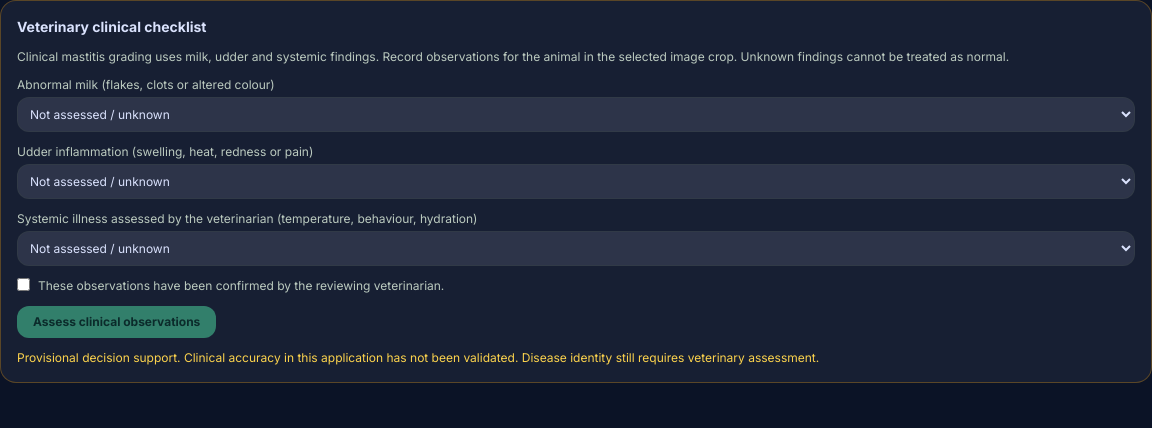
ClinicalChecklist › shows reported welfare concerns before the checklist is complete
Select "Yes" in the dropdown labelled "Systemic illness assessed": (576, 248) x1=17 y1=231 x2=1135 y2=266
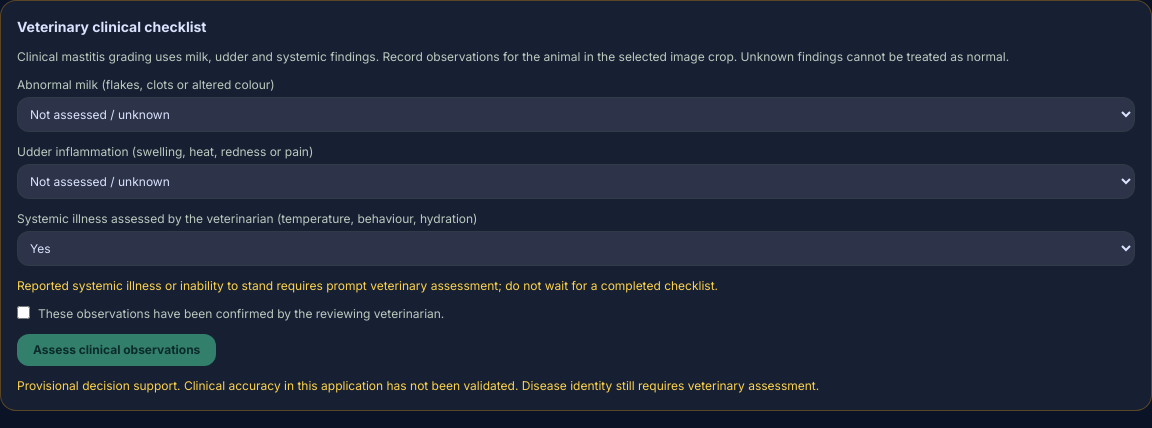
Expected: the button is disabled, x1=17 y1=334 x2=216 y2=366
Expected: the message shows "prompt veterinary assessment", x1=17 y1=278 x2=718 y2=293
